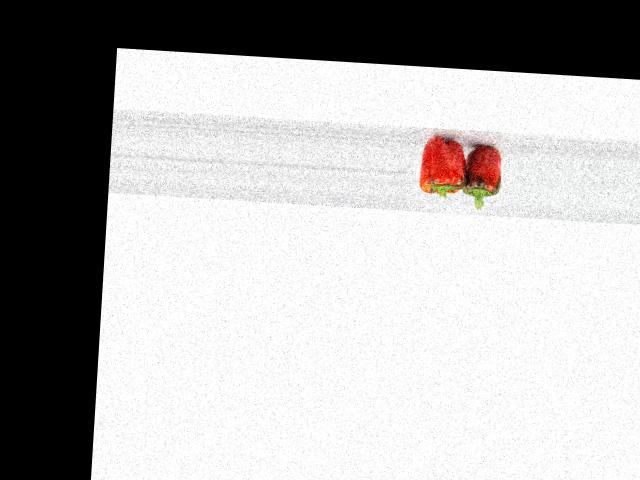bell_pepper: (410, 134, 466, 203)
